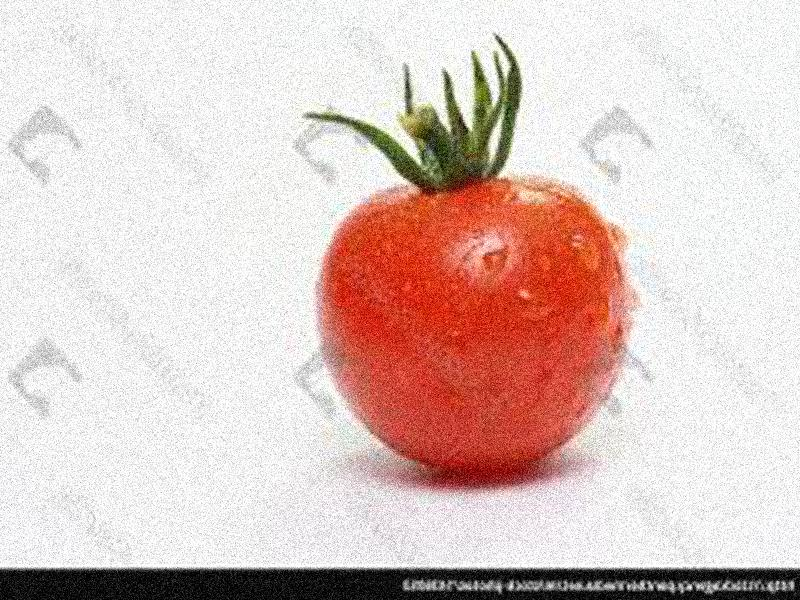Tomato: (315, 179, 623, 476)
